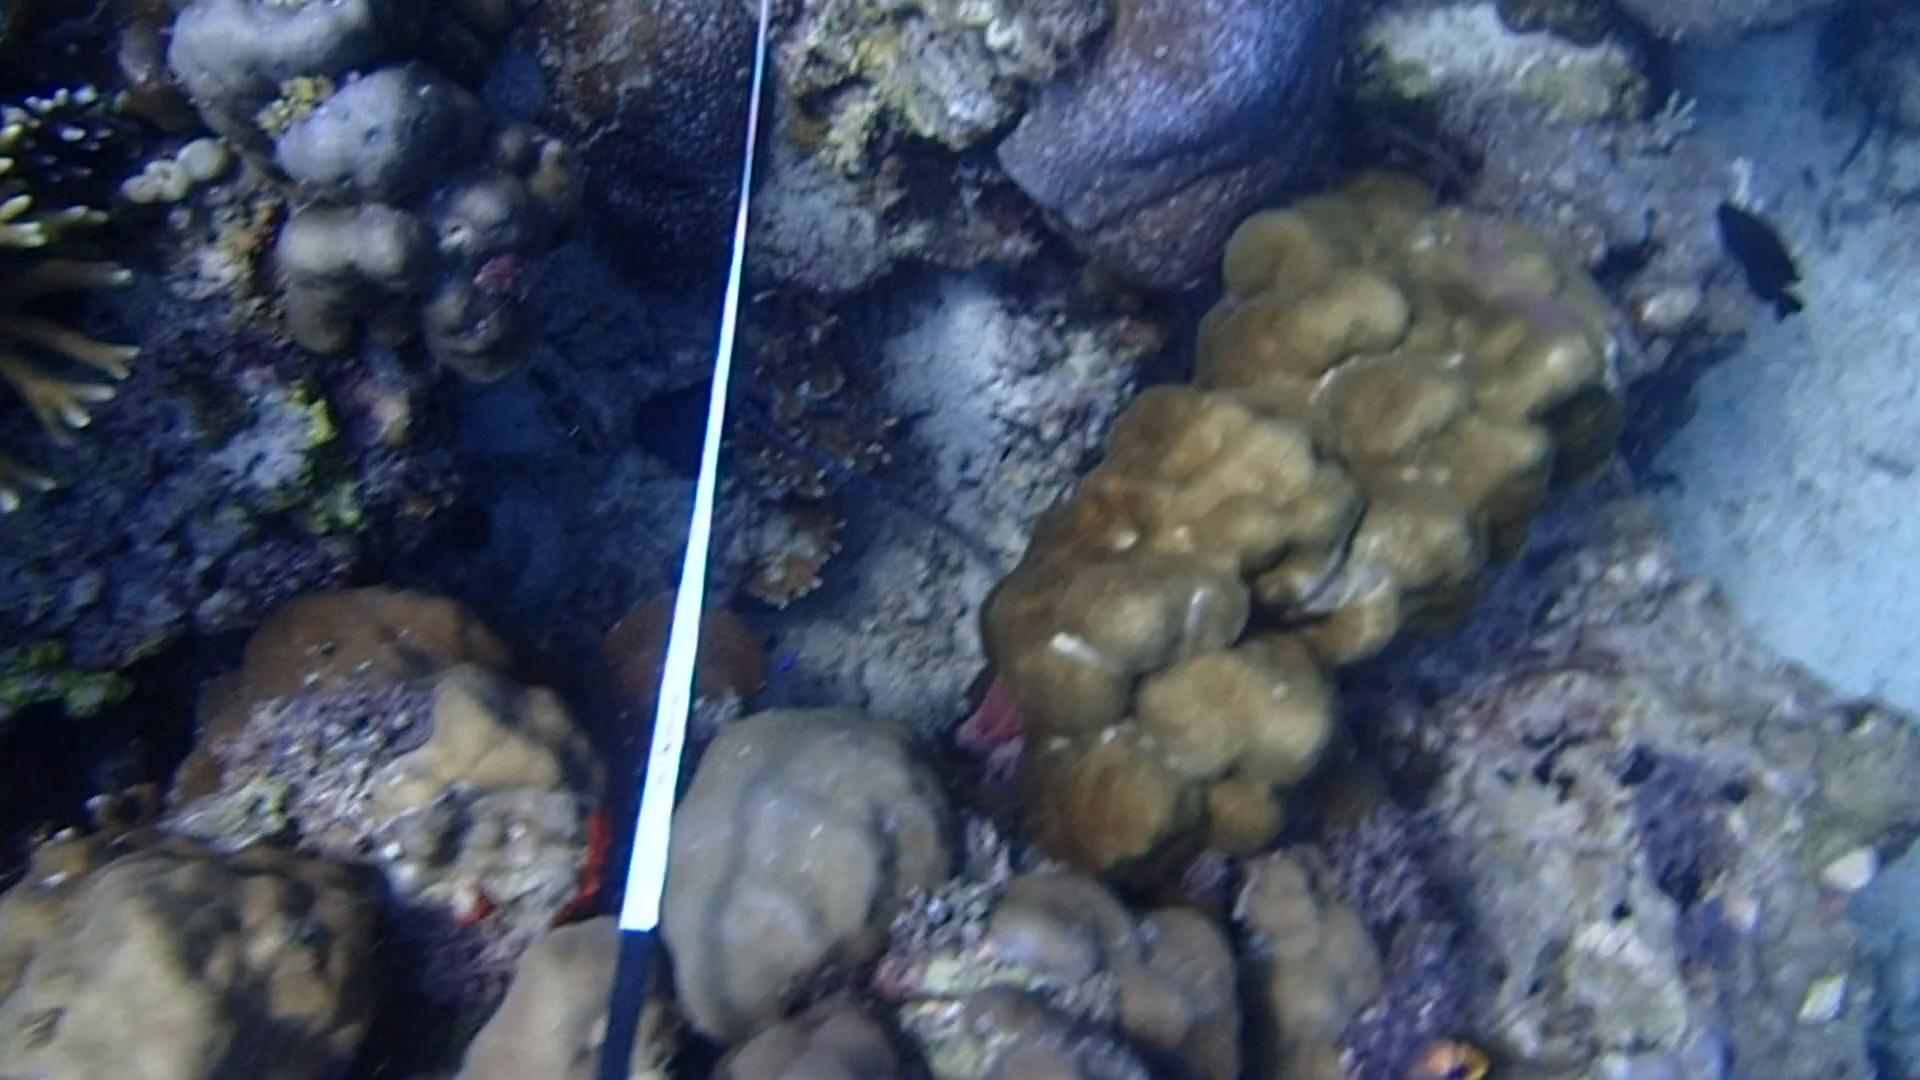Dark Fish: (1706, 186, 1834, 340)
